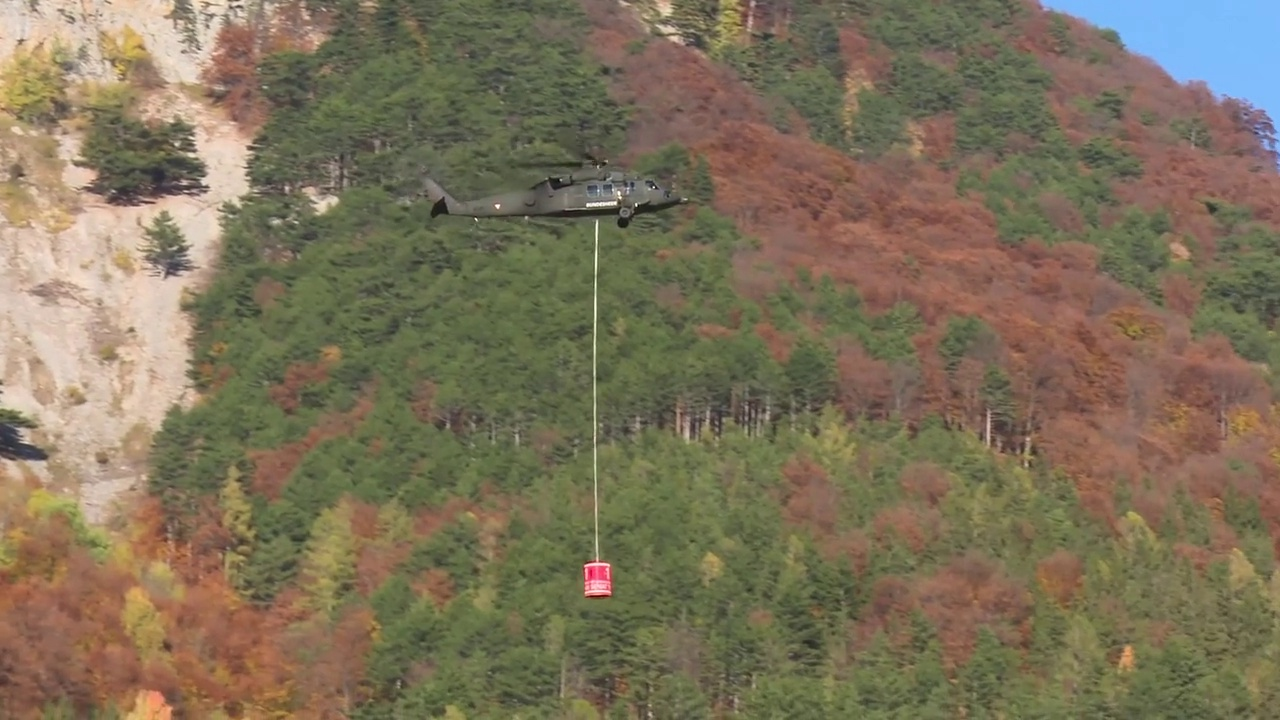heli: (423, 158, 690, 226)
